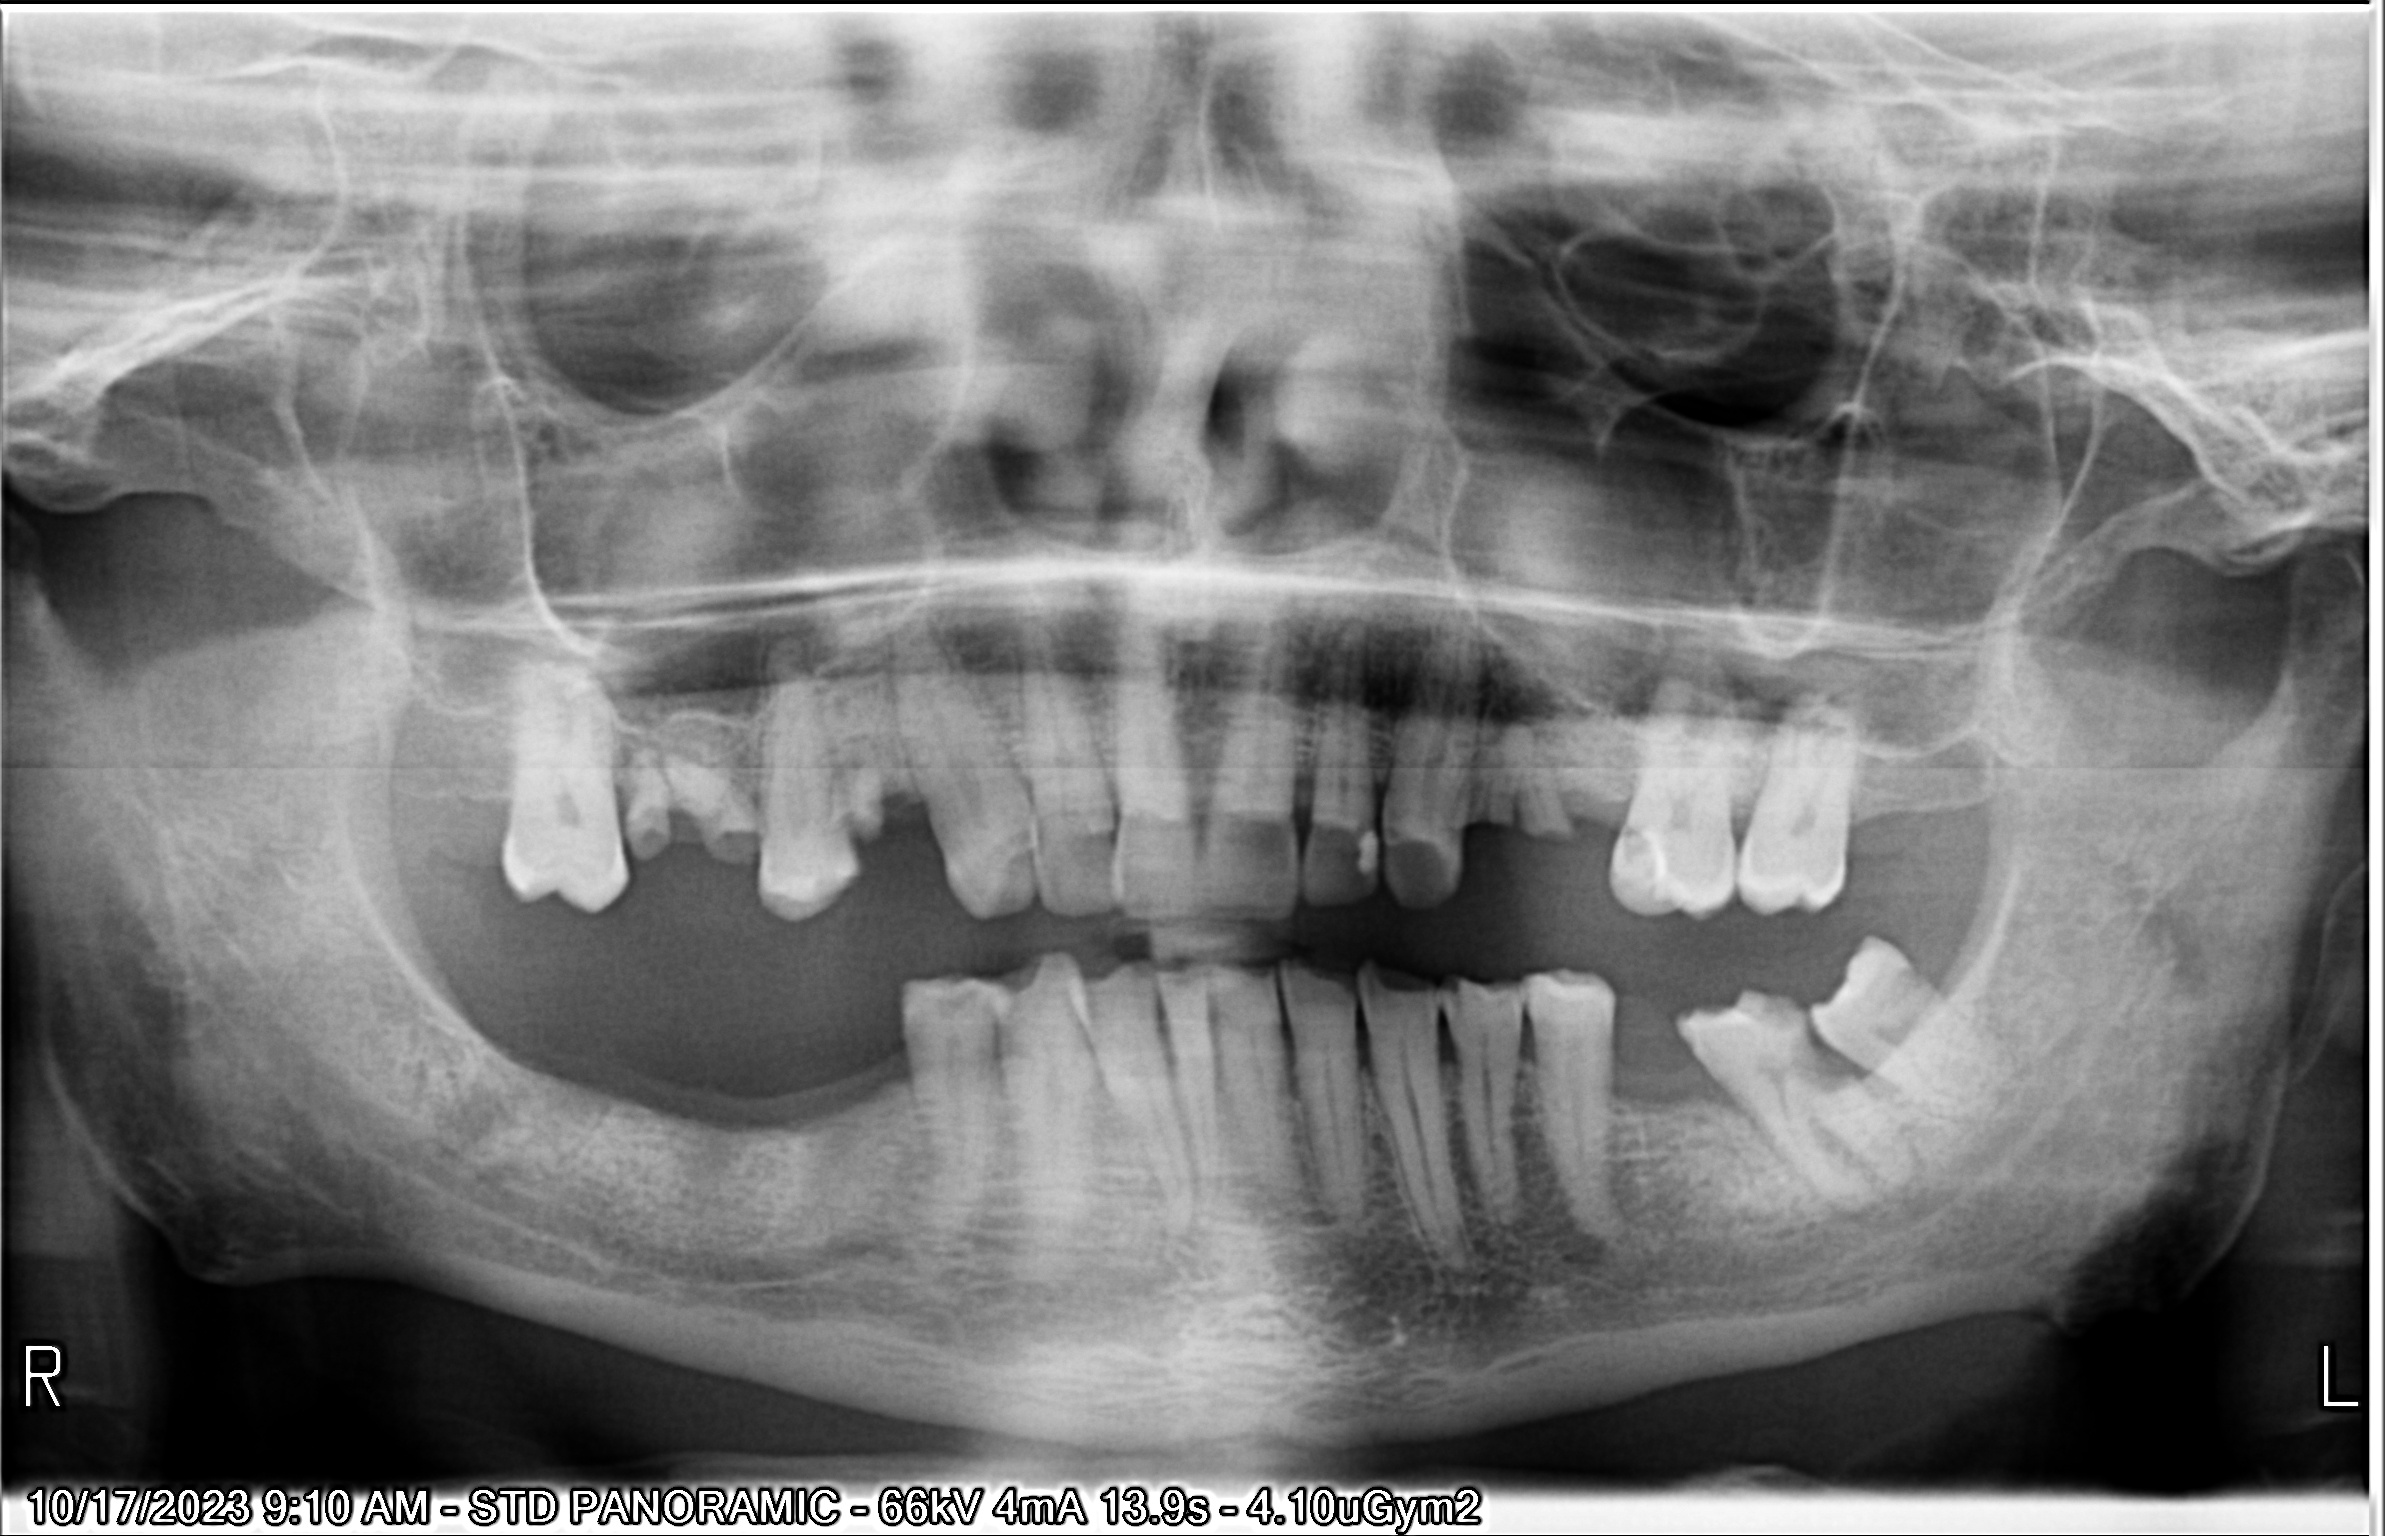BON: (1665, 1070, 1737, 1119), (1561, 791, 1641, 829), (1266, 1051, 1314, 1107), (1281, 763, 1325, 820), (1429, 1011, 1471, 1070), (1511, 1010, 1551, 1063)
CAR: (1751, 994, 1867, 1095)
OBT: (1604, 825, 1679, 904)
ROT: (1478, 714, 1587, 850), (668, 730, 767, 874), (607, 738, 678, 869), (820, 740, 894, 855)
